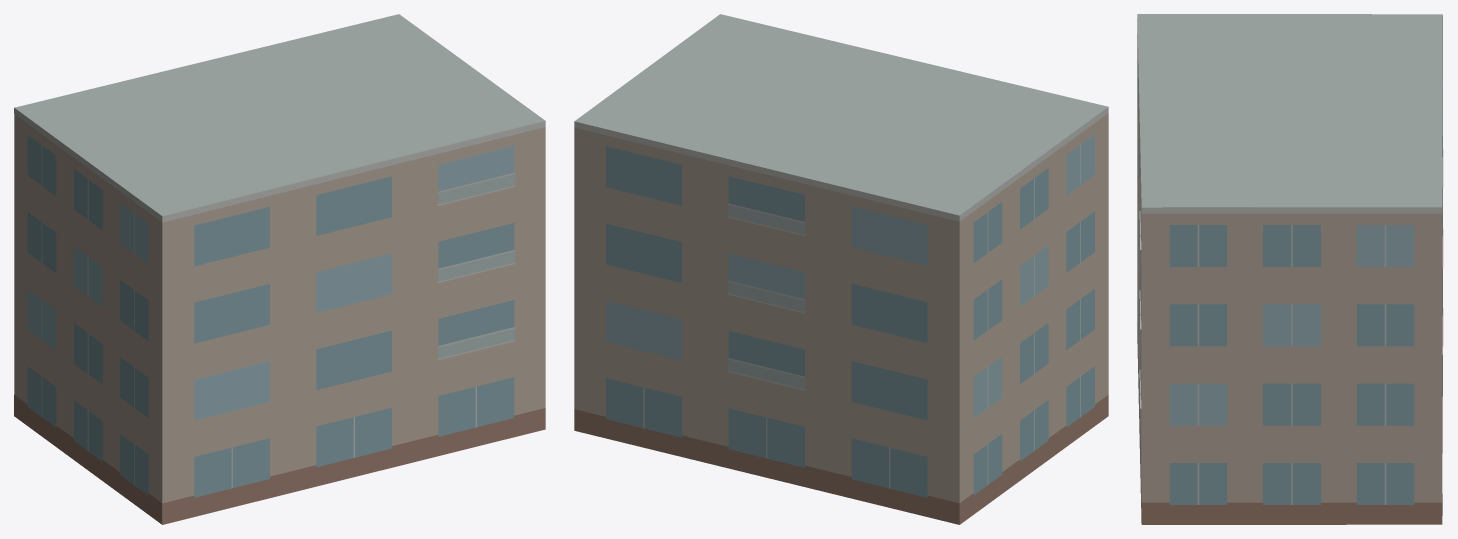
The model's file is survey-upis-32813376.glb.
The picture shows the model from 3 angles, left to right: view 1: azimuth 30°, elevation 25°; view 2: azimuth 150°, elevation 25°; view 3: azimuth 270°, elevation 25°; orthographic projection. The views are drawn at different scales.
Visible parts, largest first — view 1: survey-upis-32813376.tmp; view 2: survey-upis-32813376.tmp; view 3: survey-upis-32813376.tmp.
Part boxes in pixels (x1,y1,x2,y2): survey-upis-32813376.tmp: [14, 14, 545, 524]; survey-upis-32813376.tmp: [574, 14, 1108, 524]; survey-upis-32813376.tmp: [1137, 14, 1443, 524].
Bounding box in the file's own units: 15.96 × 12.2 × 10.68.
